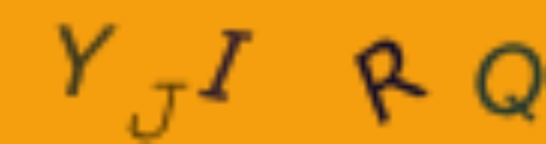I: (193, 25, 259, 105)
J: (126, 79, 188, 144)
Q: (473, 36, 546, 126)
R: (349, 34, 434, 127)
Y: (50, 19, 120, 100)
